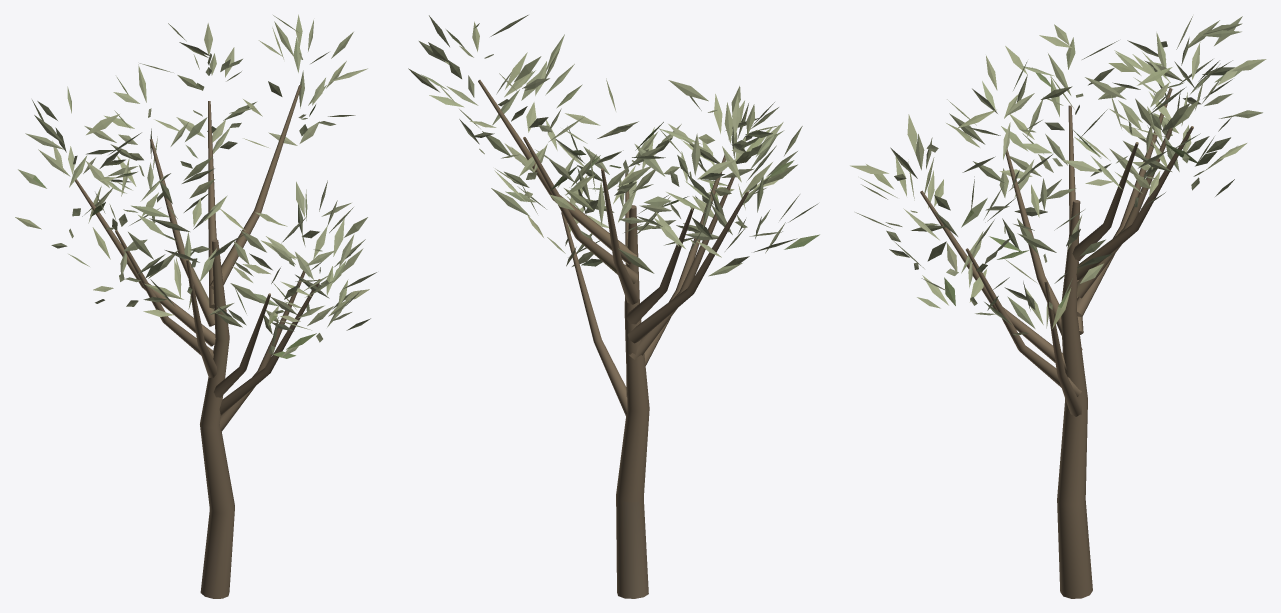
Rendered from mobile.glb.
3 renders of one model, left to right at view 1: azimuth 30°, elevation 25°; view 2: azimuth 150°, elevation 25°; view 3: azimuth 270°, elevation 25°, orthographic. The views are drawn at different scales.
Size of the model in its own units: 1.62 by 2.45 by 1.6.
1 material, 1 textured.
